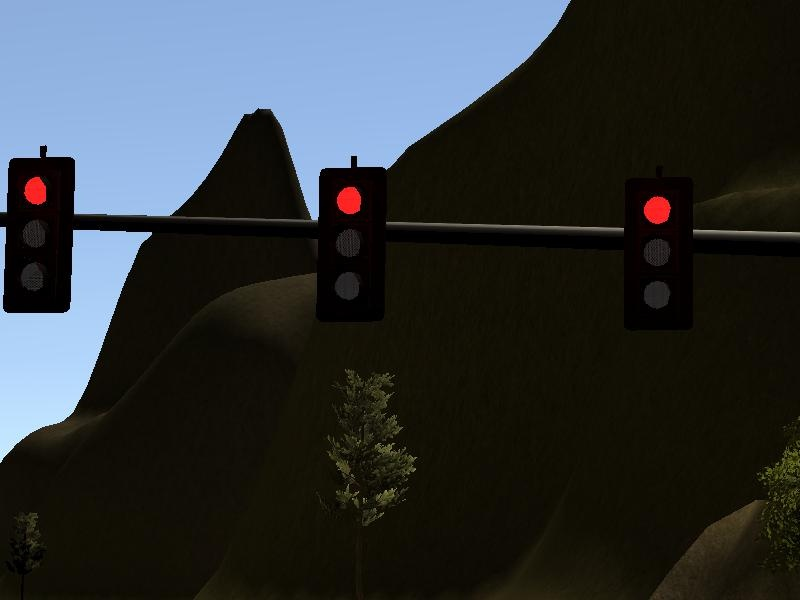RED: (312, 158, 395, 320), (1, 145, 77, 317), (623, 178, 689, 332)
